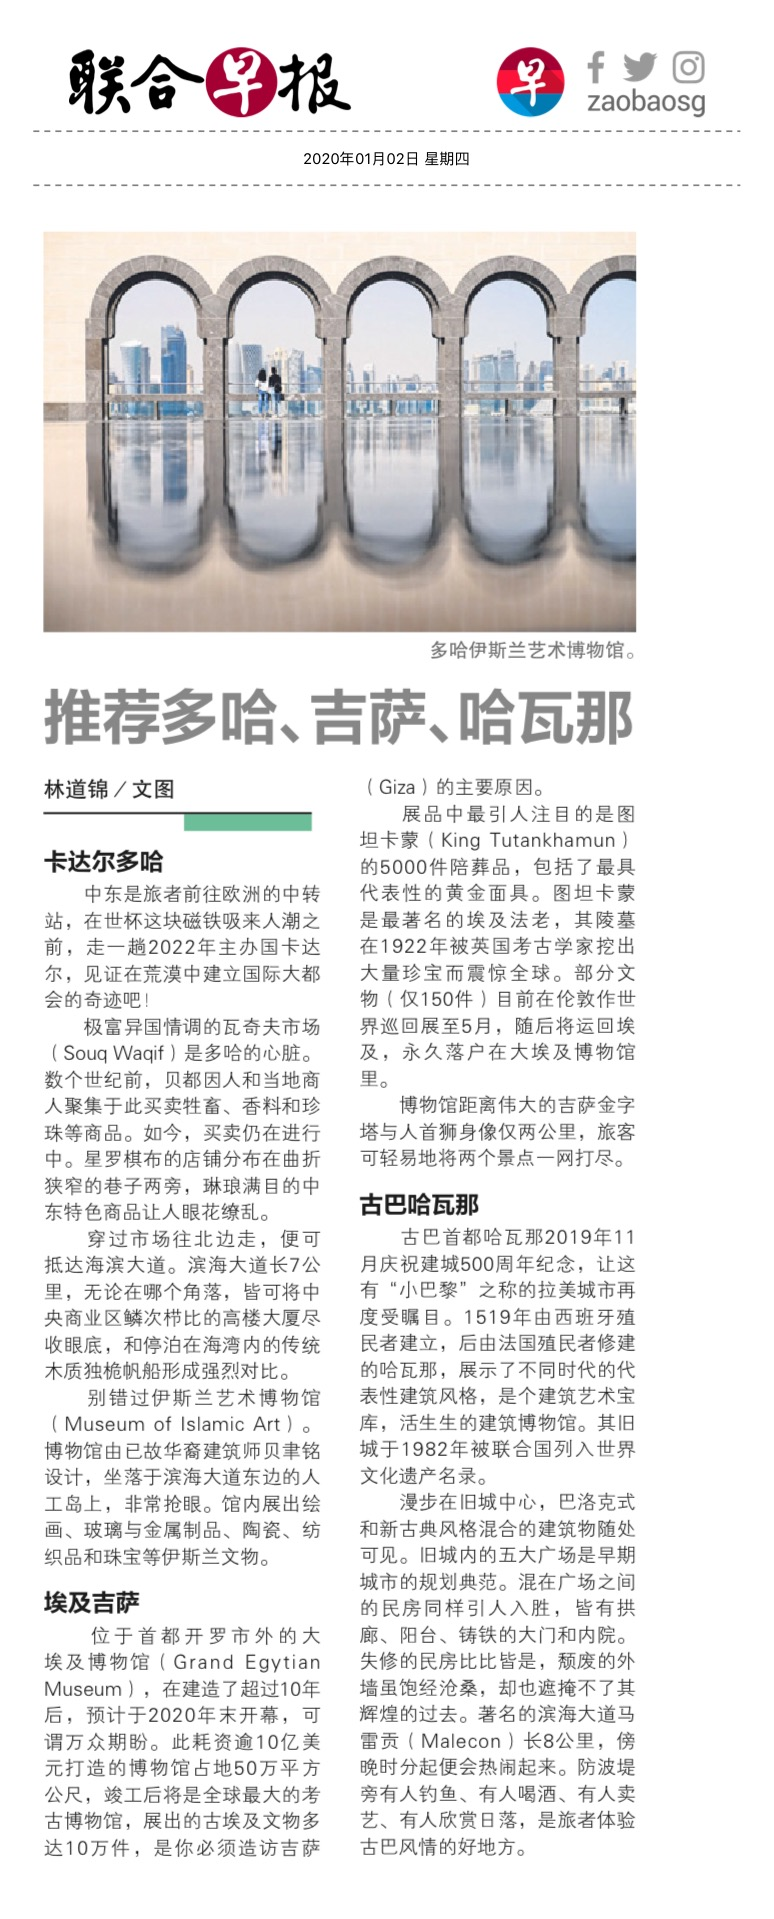heading: (33, 673, 645, 758)
